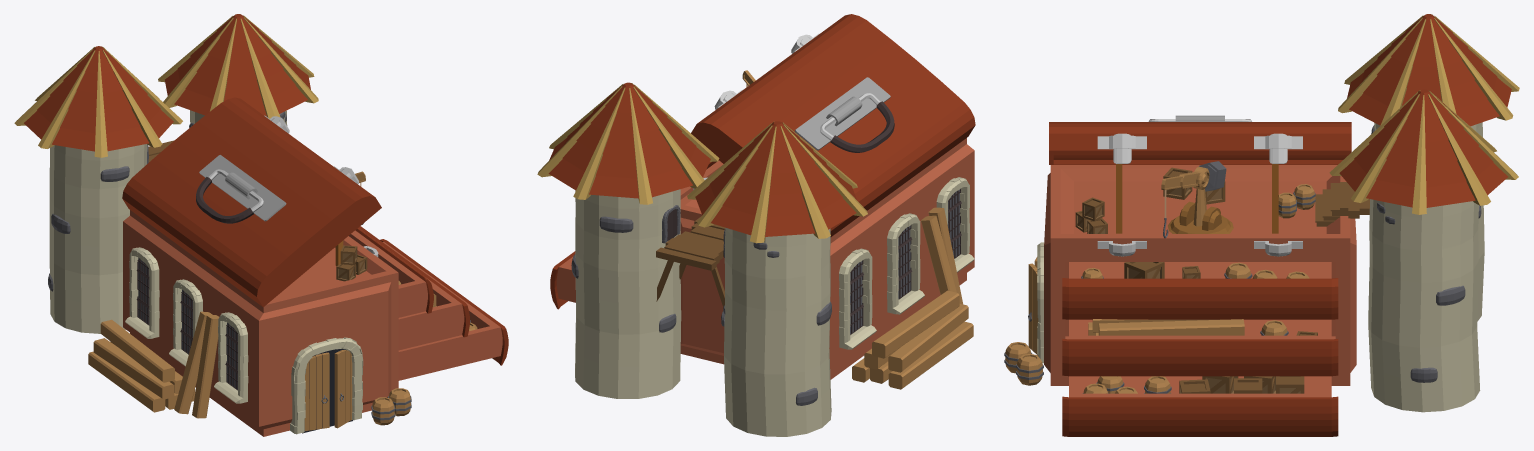
Rendered from Warehouse_Big.glb.
3 views of the same model, side by side, from view 1: azimuth 30°, elevation 25°; view 2: azimuth 150°, elevation 25°; view 3: azimuth 270°, elevation 25° (orthographic). The views are drawn at different scales.
Visible parts, largest first — view 1: Warehouse; view 2: Warehouse; view 3: Warehouse, Filled_Low, Filled_Middle, Filled_Top.
Boxes of the visible parts, <box> form: Warehouse: <box>14,14,508,436</box>; Warehouse: <box>537,14,975,436</box>; Warehouse: <box>1004,14,1519,436</box>; Filled_Low: <box>1082,376,1304,393</box>; Filled_Middle: <box>1088,319,1317,335</box>; Filled_Top: <box>1081,262,1309,278</box>.
Size of the model in its own units: 4.71 by 3.8 by 5.88.
1 material, 1 textured.
